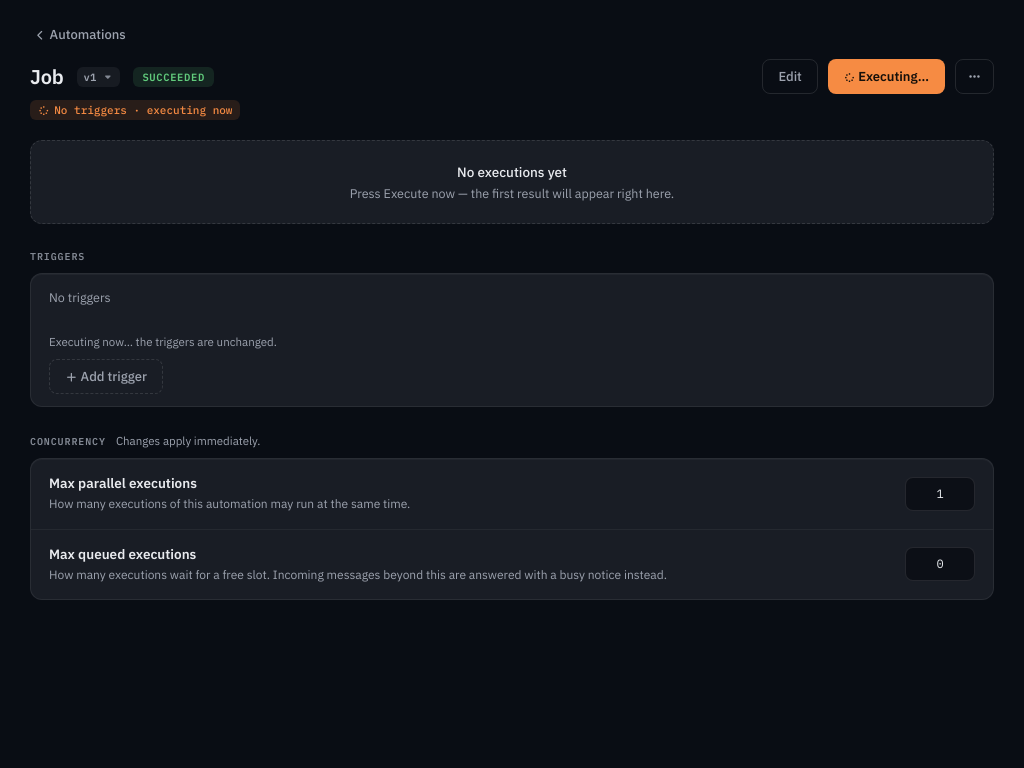
Test: §9.2 capacity popup › maxQueued 0 → capacity-full notice without a waiting count
Click the button "Executing…" at {"x": 886, "y": 76}, box [828, 59, 945, 94]
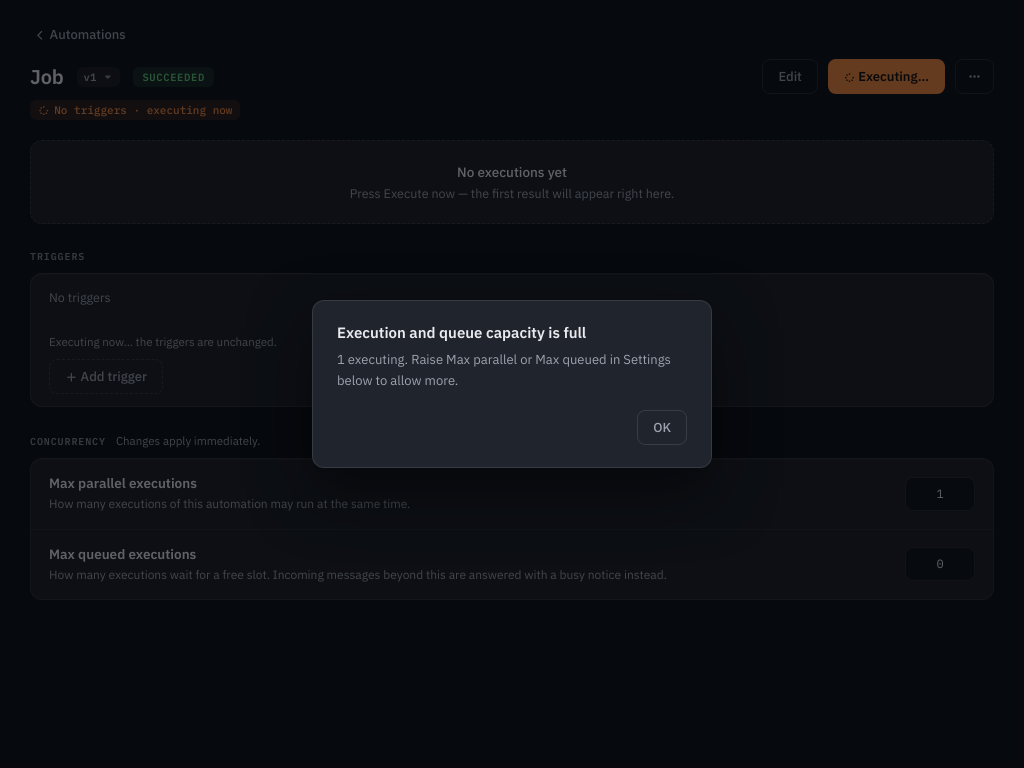
Check: the text "Execution and queue capacity is full" is shown, box [337, 323, 586, 342]
Check: the text "1 executing." is shown, box [337, 351, 408, 368]
